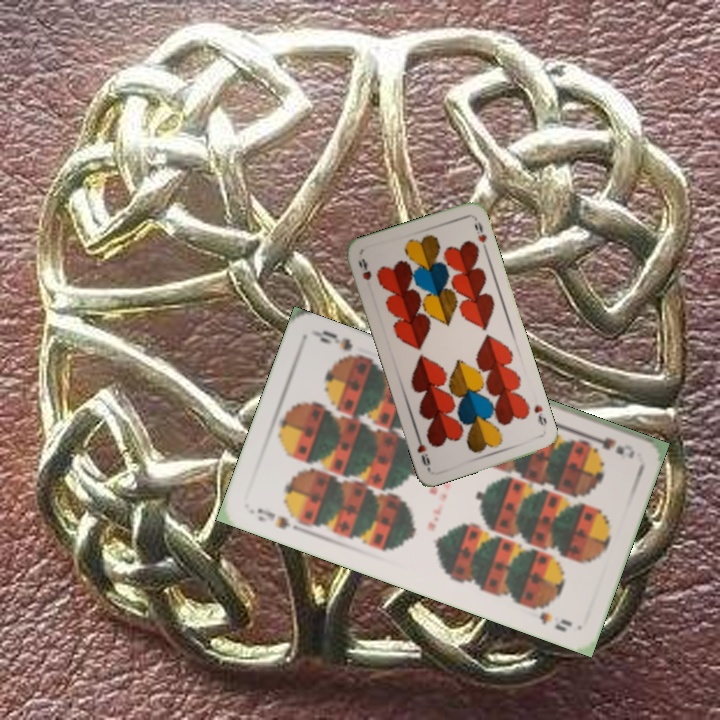H9: (354, 255, 374, 283), (530, 401, 550, 429)
S9: (580, 430, 638, 461), (253, 504, 303, 533)
